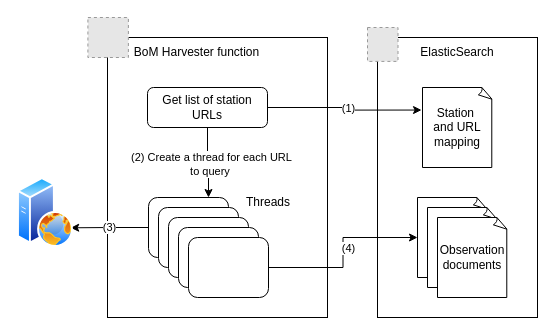
The diagram is 555 pixels wide and 335 high, and some of its shapes have lost their labels. Grey dashed boxes stand in for pictures. Here are the shapes that lost their labels. From the top down, the centre of each, then its label:
At pixel 45 212: "BoM API".
At pixel 228 267: "Query URL endpoint, add new doc to ElasticSearch".
